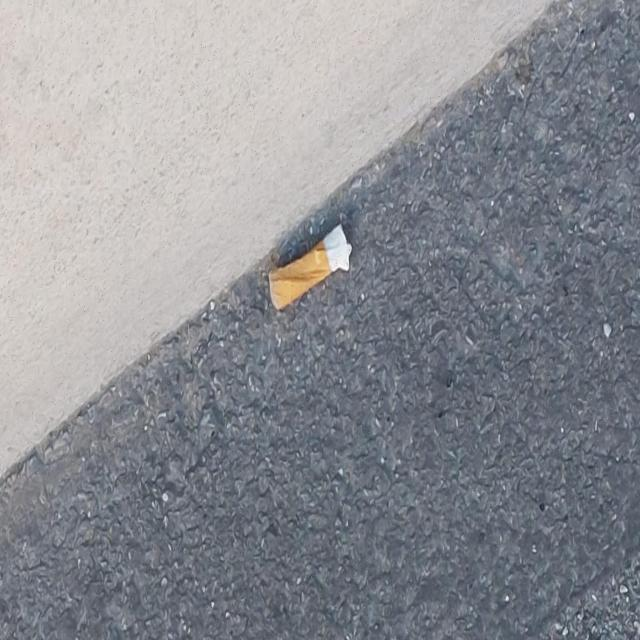other waste: (268, 222, 353, 311)
